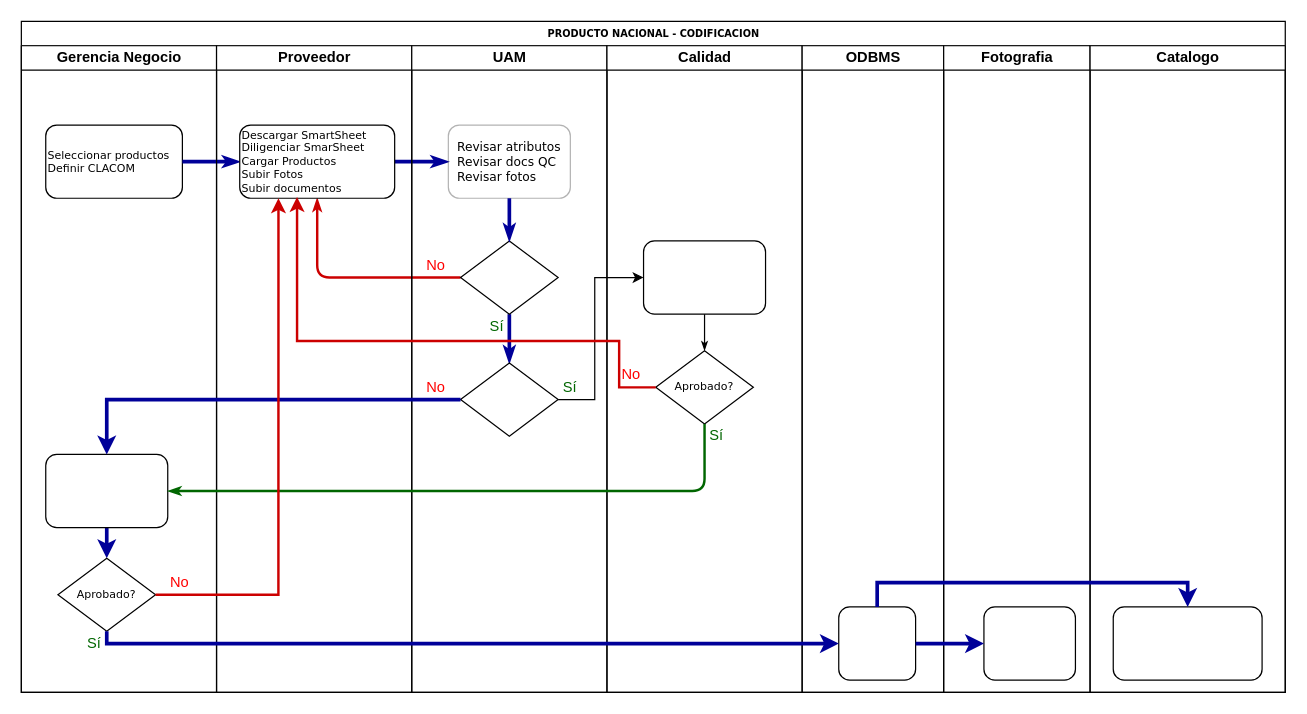
This 1307x714 diagram has some shape labels left out. Each missing label, with the centre of its shape:
"Aprobar / Rechazar" goes at pixel 704 277.
"Aprobar fotos" goes at pixel 1029 643.
"Completo?" goes at pixel 508 277.
"Descargar reporte BCC Transformar para BCC Cargar datos BCC" goes at pixel 1187 643.
"Enriquecer atributos comerciales" goes at pixel 106 490.
"Escalar a QC?" goes at pixel 508 399.
"Generar SKU" goes at pixel 877 643.
